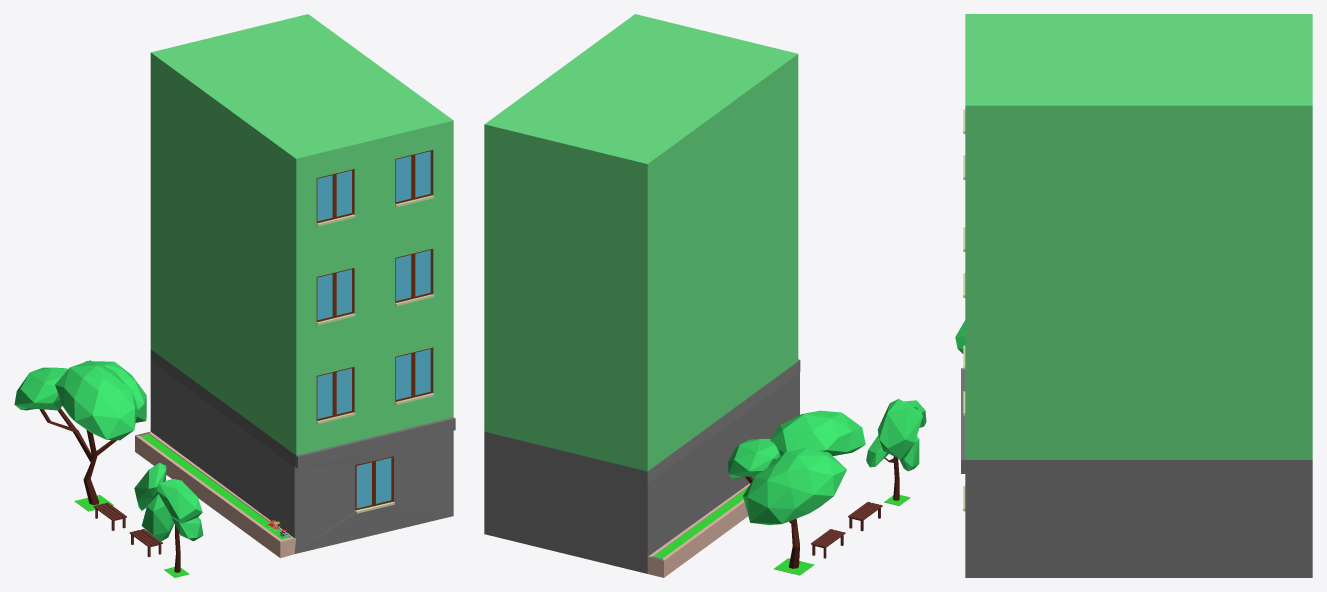
Rendered from Budynek03.fbx.
3 renders of one model, left to right at view 1: azimuth 30°, elevation 25°; view 2: azimuth 150°, elevation 25°; view 3: azimuth 270°, elevation 25°, orthographic. The views are drawn at different scales.
Parts seen in each view (by area): view 1: Tree Type5 02 Model; view 2: Tree Type5 02 Model; view 3: Tree Type5 02 Model.
Boxes of the visible parts, x1=… form: Tree Type5 02 Model: x1=14, y1=14, x2=455, y2=577; Tree Type5 02 Model: x1=484, y1=14, x2=926, y2=577; Tree Type5 02 Model: x1=955, y1=14, x2=1312, y2=577.
Size of the model in its own units: 501 by 601 by 412.
